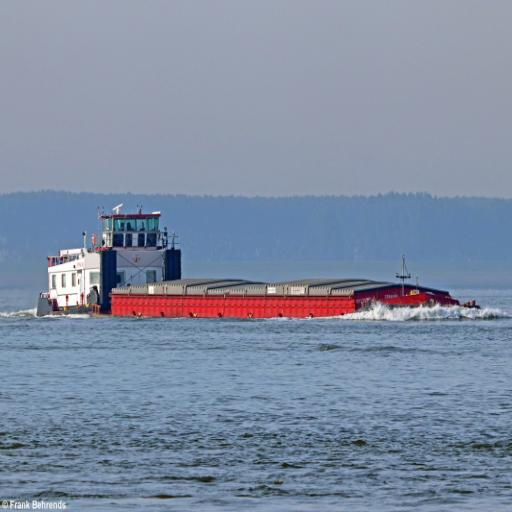tugboat: (36, 202, 186, 323)
